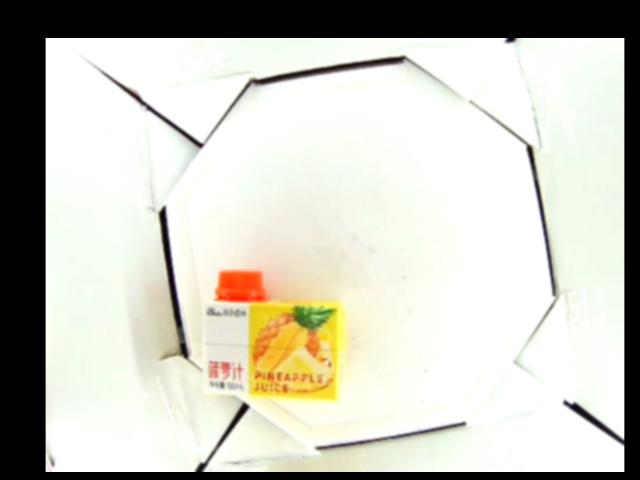Bottle: (202, 268, 343, 396)
